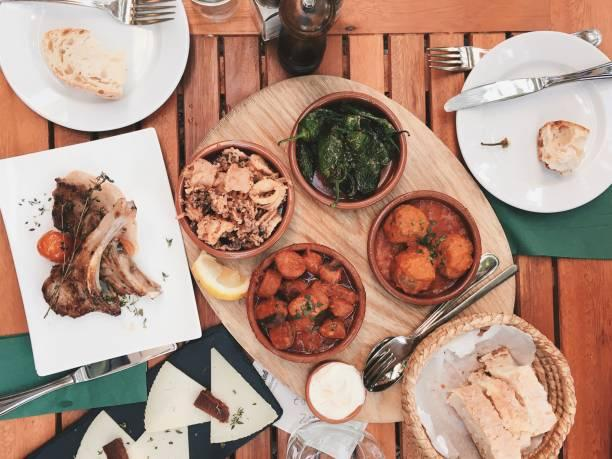Braised Crucian Carp: (2, 128, 203, 375), (453, 28, 610, 211), (398, 310, 575, 456), (0, 0, 189, 132), (287, 90, 407, 209), (245, 242, 364, 360), (177, 141, 294, 260), (367, 189, 482, 304)
